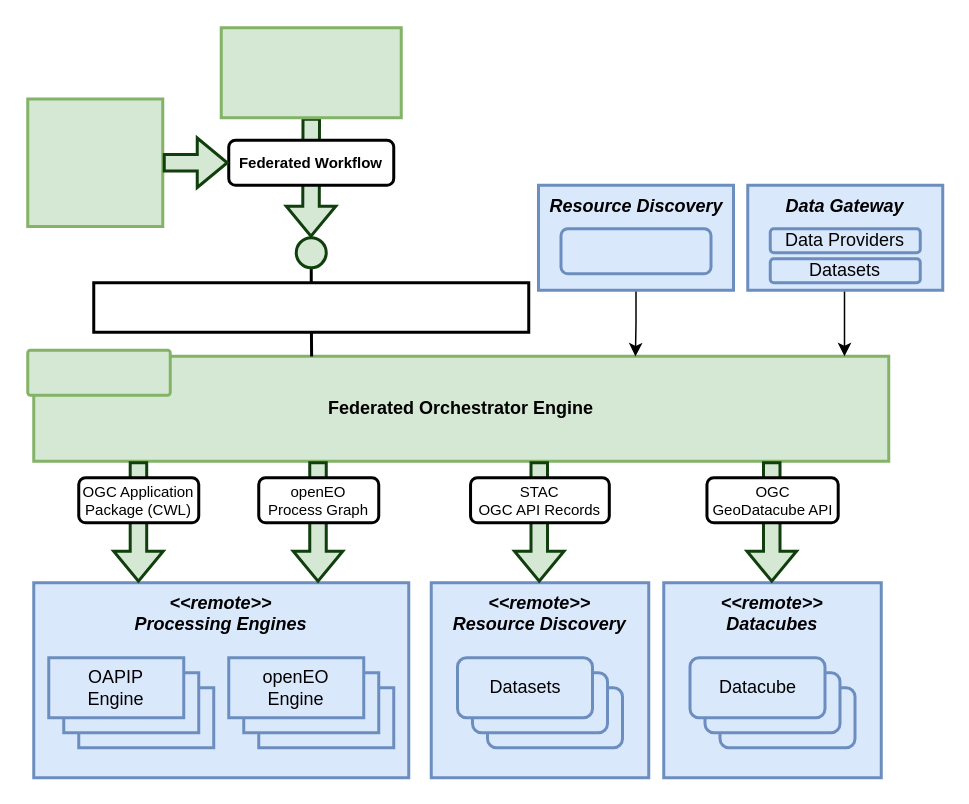
Image size: 969x804. Some labels were removed from this diagram. Here are the shapes that lost their labels. From the top down, the centre of each, then its label:
At (310,72): "Exploitation Client".
At (95,162): "Federated Workflow Development Tooling".
At (635,250): "Platform Services".
At (311,306): "OGC API - Processes - Part 3: Workflows & Chaining".
At (98,372): "<<configurable>> Business Rules".
